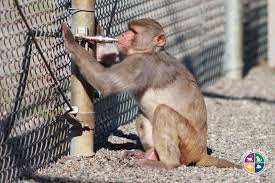monkey: (53, 4, 247, 177)
